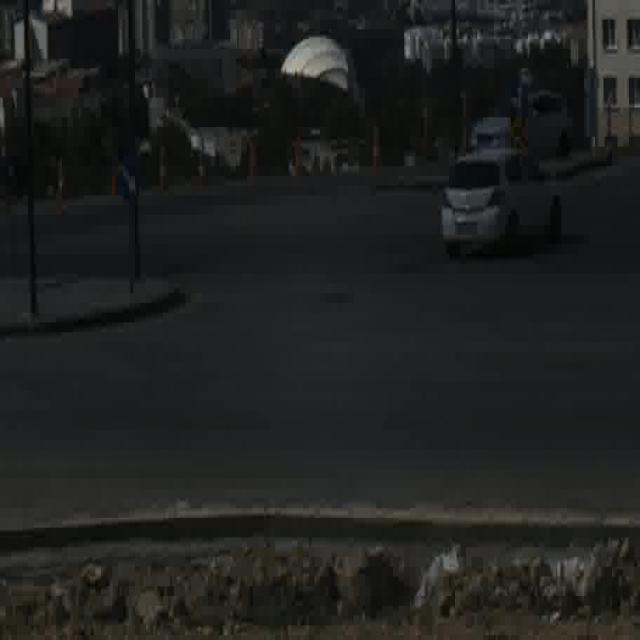Car: (441, 148, 562, 265)
